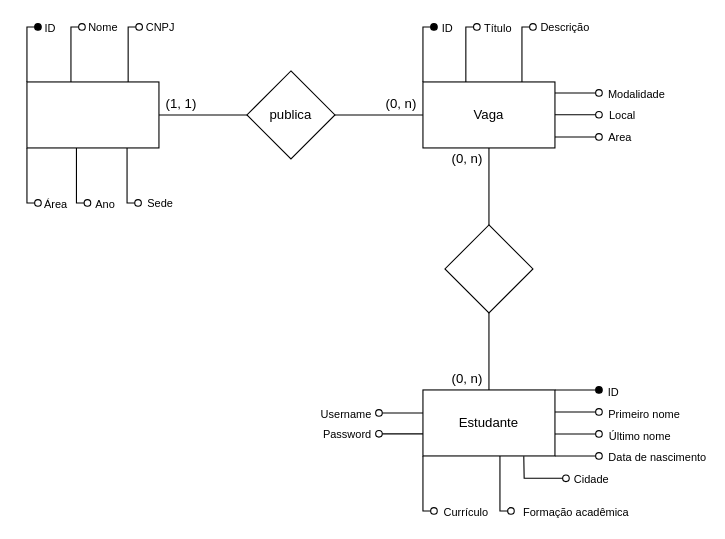
Some shapes in this 725 by 539 pixel diagram are drawn without their labels. Each missing label, with the centre of its shape:
candidata: point 488,268
Empresa: point 92,114
